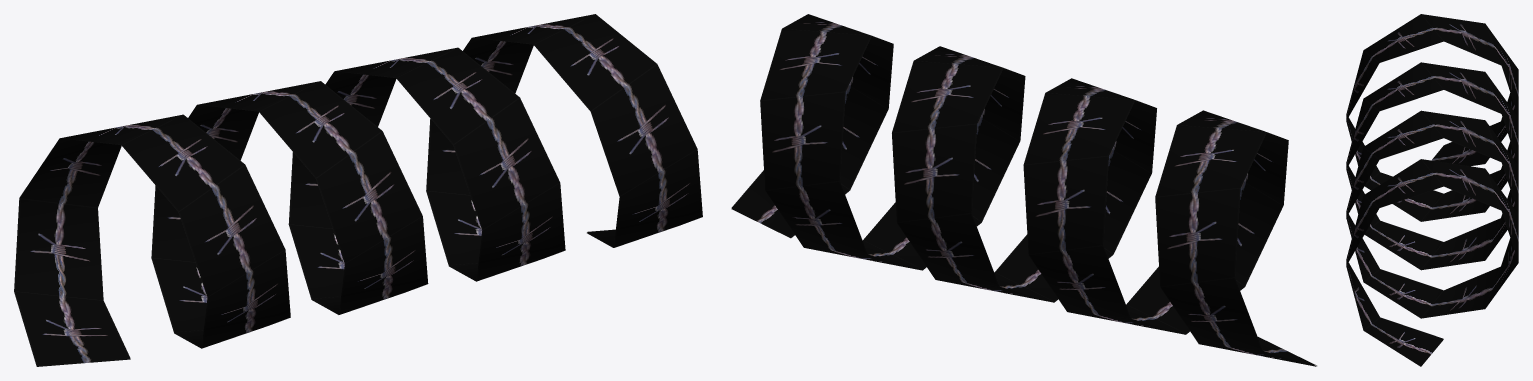
Rendered from MediumTank_Gear_BarbedWire.FBX.
3 views of the same model, side by side, from view 1: azimuth 30°, elevation 25°; view 2: azimuth 150°, elevation 25°; view 3: azimuth 270°, elevation 25° (orthographic). The views are drawn at different scales.
Parts seen in each view (by area): view 1: MediumTank_Gear_BarbedWire; view 2: MediumTank_Gear_BarbedWire; view 3: MediumTank_Gear_BarbedWire.
Part boxes in pixels (left/top/right/bottom): MediumTank_Gear_BarbedWire: left=14, top=14, right=702, bottom=366; MediumTank_Gear_BarbedWire: left=731, top=14, right=1316, bottom=366; MediumTank_Gear_BarbedWire: left=1346, top=14, right=1518, bottom=366.
Size of the model in its own units: 2.09 by 0.6903 by 0.6903.
